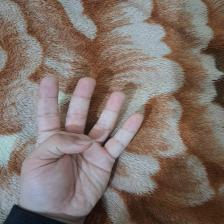four: (24, 71, 148, 216)
